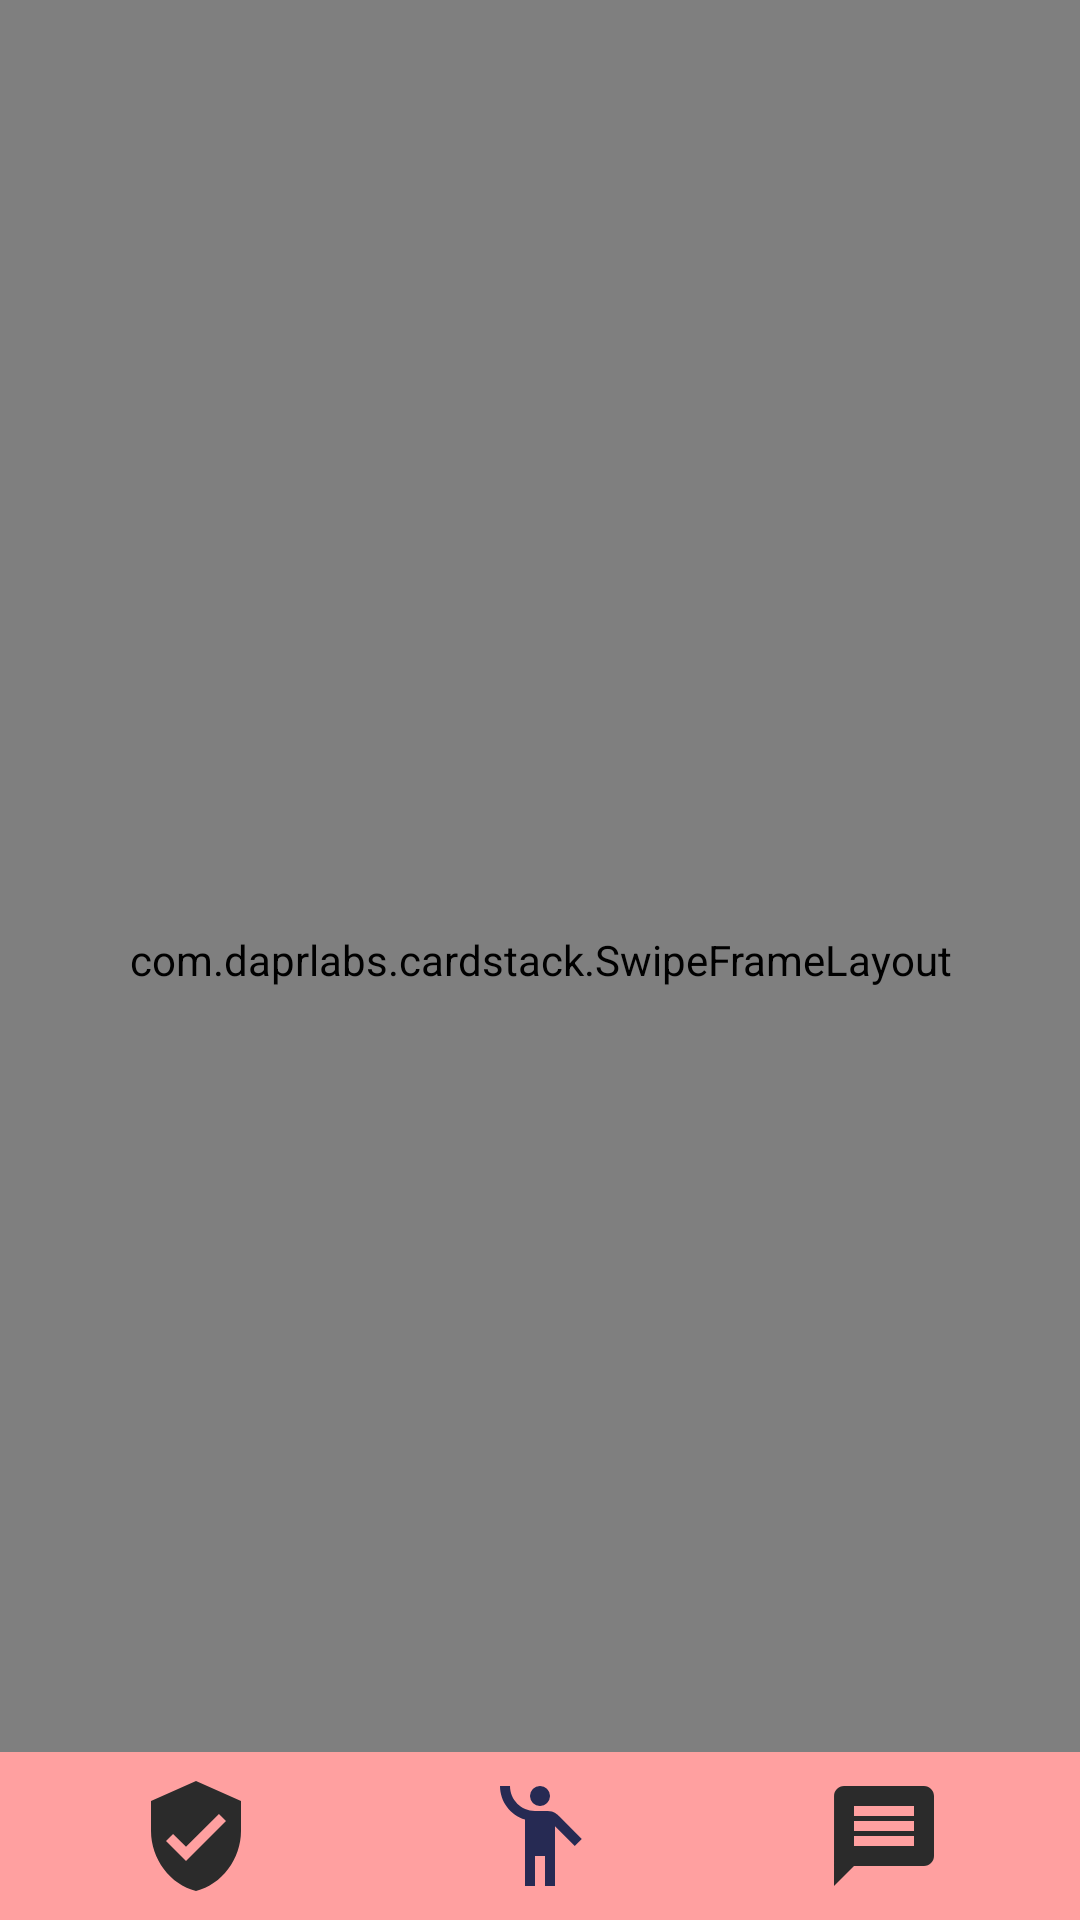

Screen size 1080 × 1920. Icon name, then its box in pixels as [left=x1, top=y1, right=x2, bottom=y2]:
emoji people: [left=500, top=1786, right=582, bottom=1886]
message: [left=834, top=1786, right=934, bottom=1886]
verified user: [left=151, top=1781, right=241, bottom=1891]
